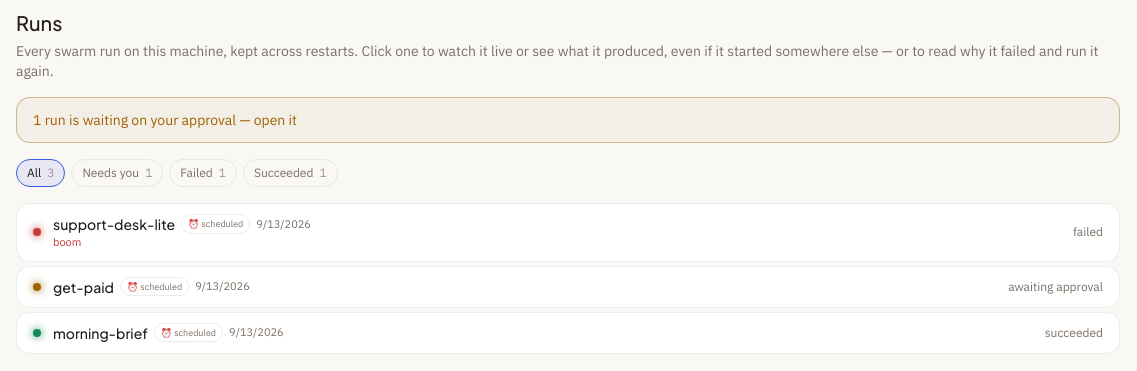
it: RunsPage › filters to the runs that need a person
Click the button "Needs you1".
click(117, 173)  # box [71,159,163,187]
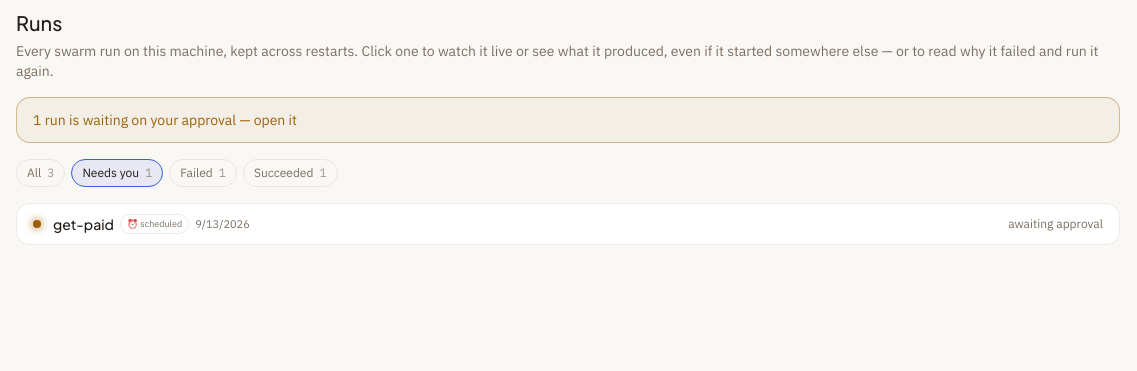
Expected: the text "get-paid" is shown, [53,214,114,234]
Now the button "morning-brief" is gone
